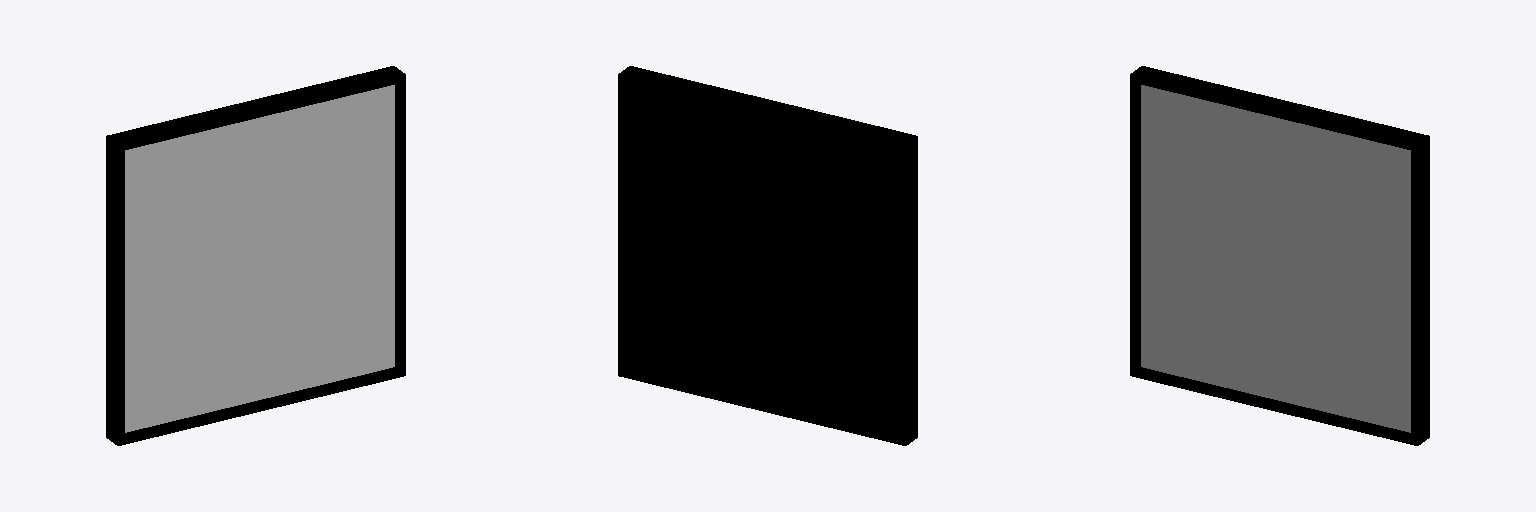
Rendered from WHGArena.obj.
3 views of the same model, side by side, from view 1: azimuth 30°, elevation 25°; view 2: azimuth 150°, elevation 25°; view 3: azimuth 330°, elevation 25° (orthographic).
Visible parts, largest first — view 1: Arena; view 2: Arena; view 3: Arena.
Boxes of the visible parts, x1=… form: Arena: x1=106, y1=66, x2=405, y2=445; Arena: x1=618, y1=66, x2=917, y2=445; Arena: x1=1130, y1=66, x2=1429, y2=445.
Bounding box in the file's own units: 20 × 20 × 1.5.